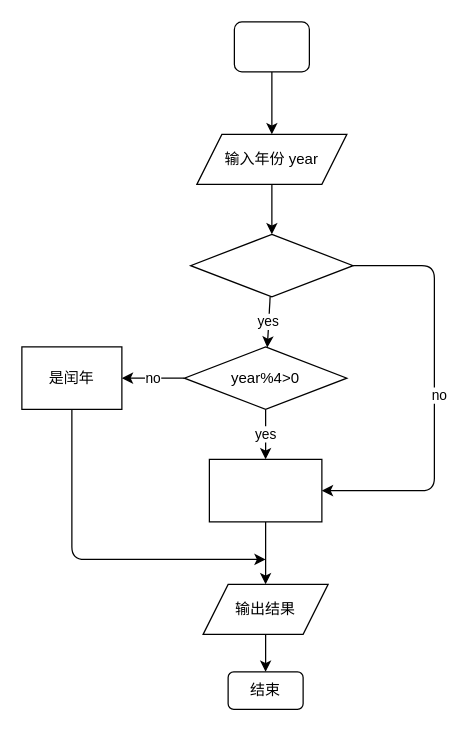
This 468x731 diagram has some shape labels left out. The shapes that lost their labels are listed below. From the top down, each one's centre as x and y in pixels, then its label:
pixel 271 46: 开始
pixel 271 265: year%100>0
pixel 265 490: 不是闰年
